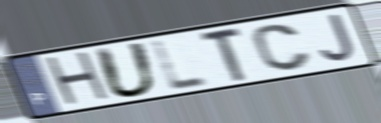C: (250, 22, 314, 74)
H: (42, 49, 115, 110)
J: (319, 12, 358, 64)
L: (150, 38, 213, 93)
T: (199, 24, 249, 84)
U: (92, 40, 160, 100)
